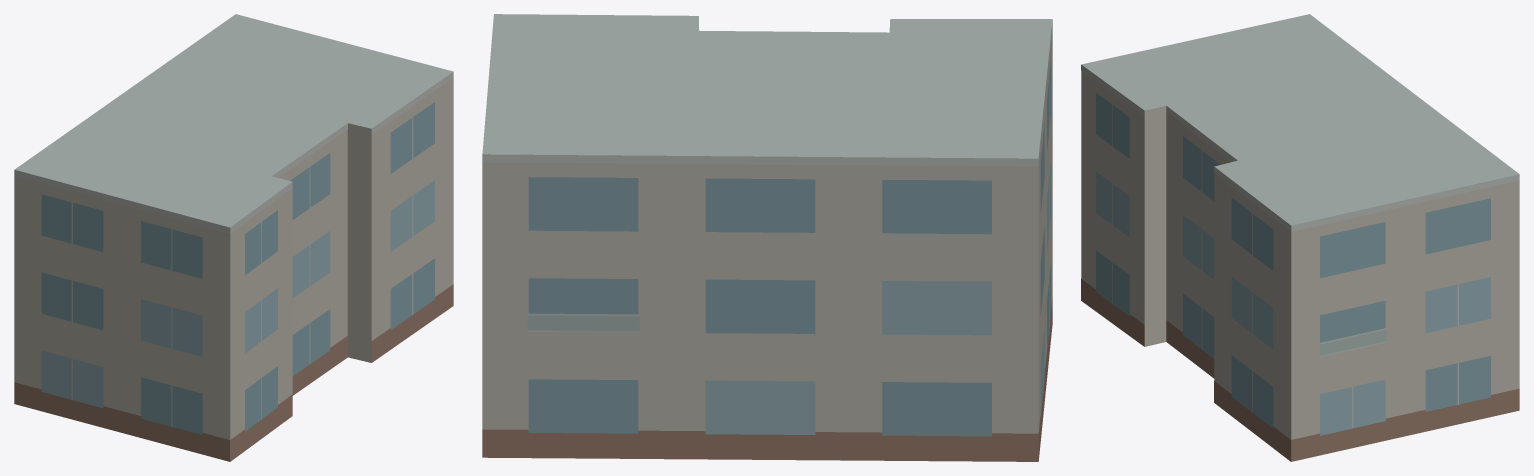
File: survey-upis-33022442.glb
3 views of the same model, side by side, from view 1: azimuth 30°, elevation 25°; view 2: azimuth 150°, elevation 25°; view 3: azimuth 270°, elevation 25° (orthographic). The views are drawn at different scales.
Visible parts, largest first — view 1: survey-upis-33022442.tmp; view 2: survey-upis-33022442.tmp; view 3: survey-upis-33022442.tmp.
Boxes of the visible parts, x1,y1,x2,y2 form: survey-upis-33022442.tmp: [14, 14, 453, 461]; survey-upis-33022442.tmp: [482, 14, 1052, 461]; survey-upis-33022442.tmp: [1081, 14, 1519, 461].
Size of the model in its own units: 17.58 by 9.15 by 15.4.
